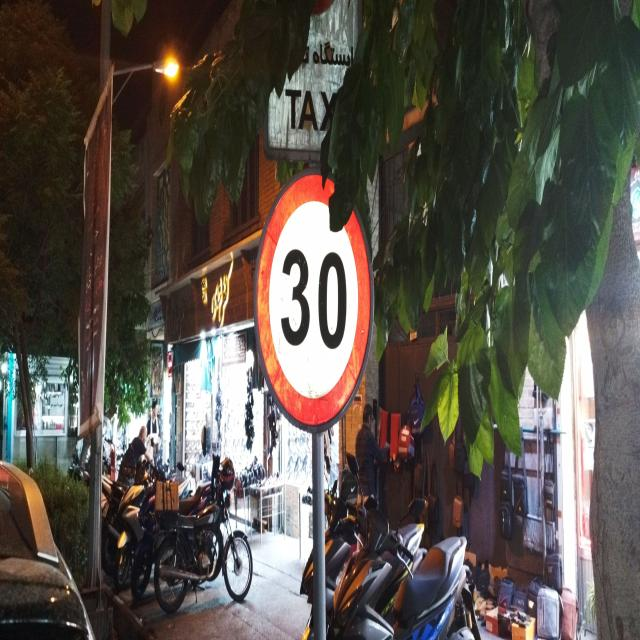max speed: (257, 166, 374, 429)
